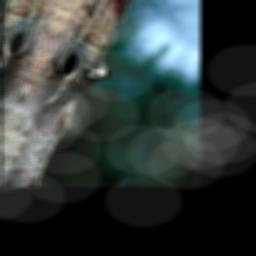Woodpecker: (34, 45, 117, 140)
